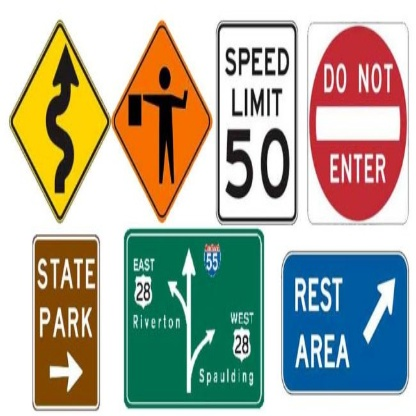limit1: (212, 19, 300, 227)
